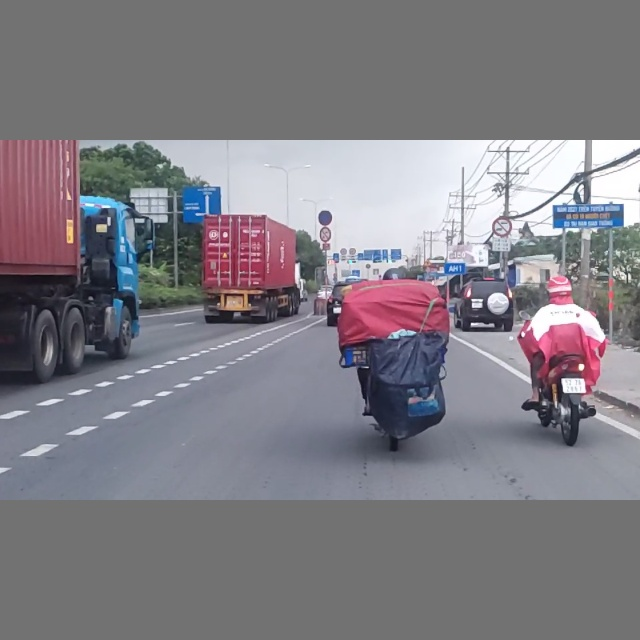P.107: (492, 217, 513, 237)
P.111: (320, 227, 331, 242)
P.130: (317, 209, 334, 225)
